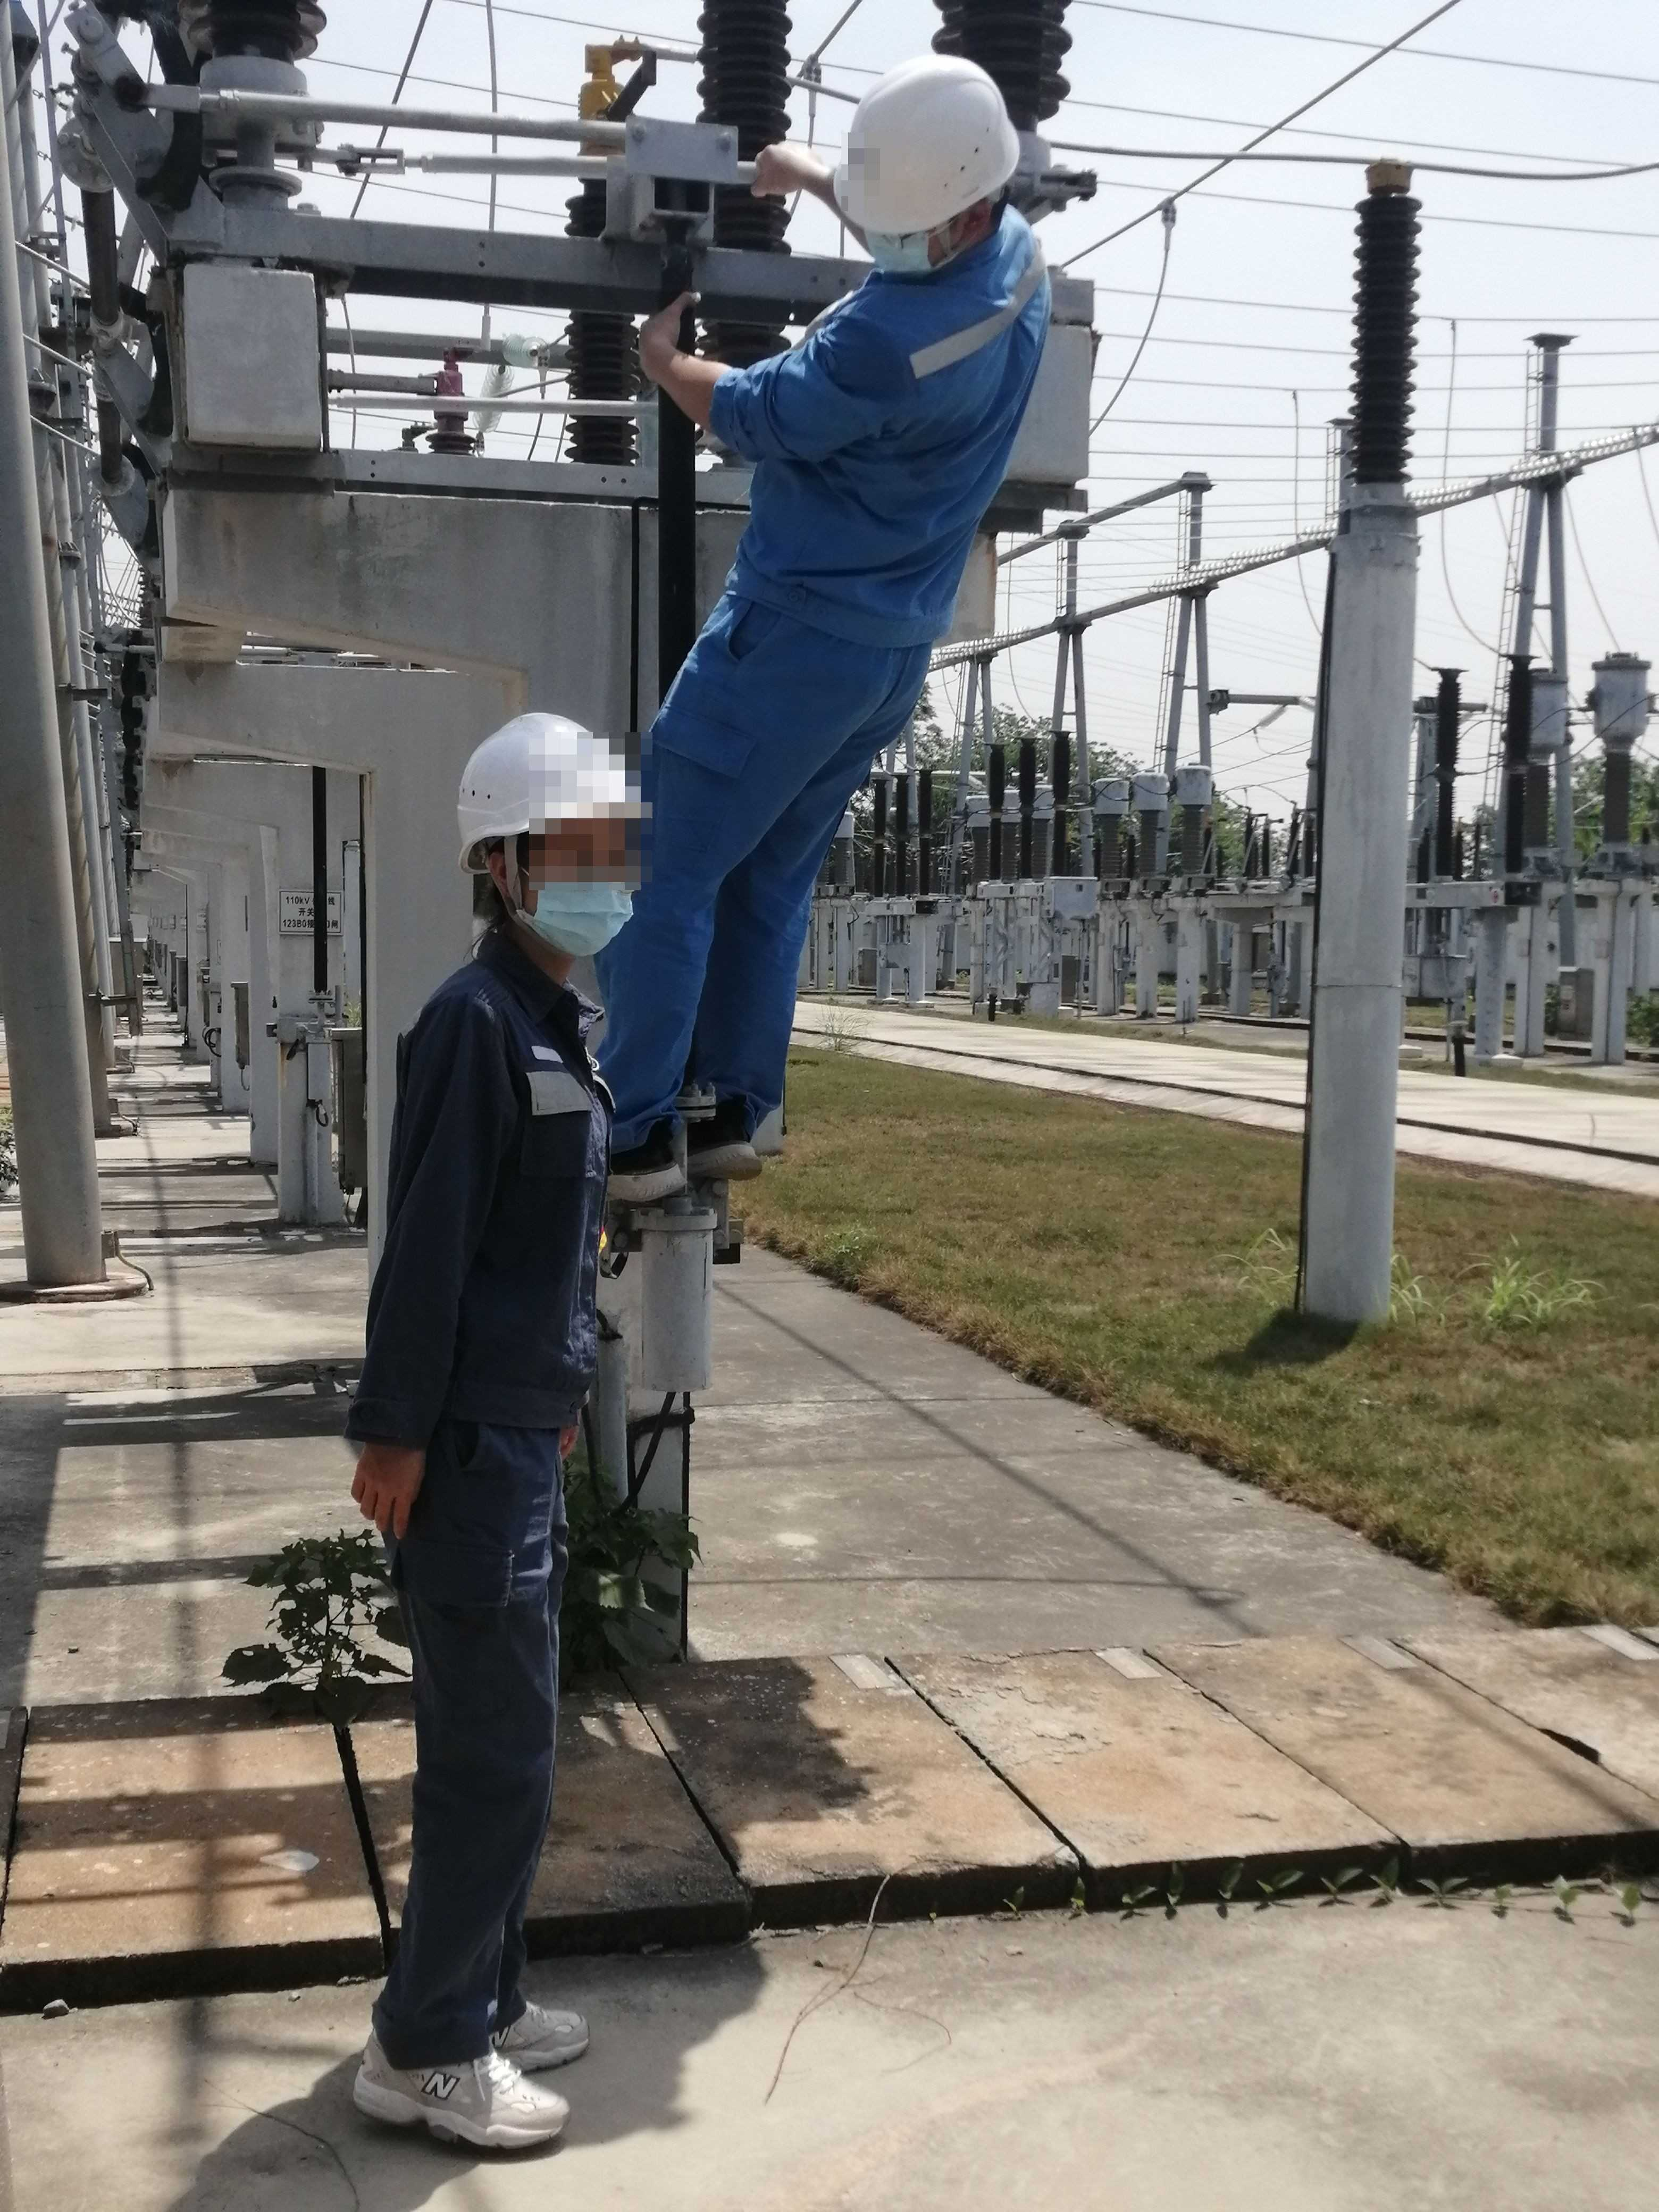downsuit: (629, 650, 932, 1123), (364, 1456, 579, 2055)
upsuit: (701, 233, 1053, 637), (355, 975, 606, 1428)
wrongtop: (633, 312, 767, 444), (744, 136, 845, 235)
